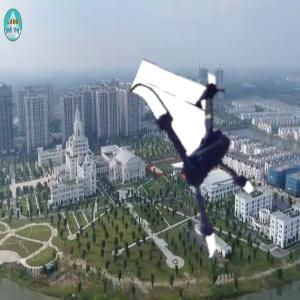drone: (108, 75, 288, 255)
